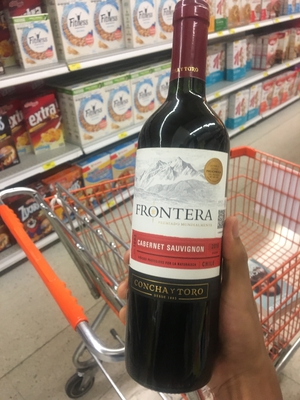frontera cabernet sauvignon: (125, 24, 227, 379)
